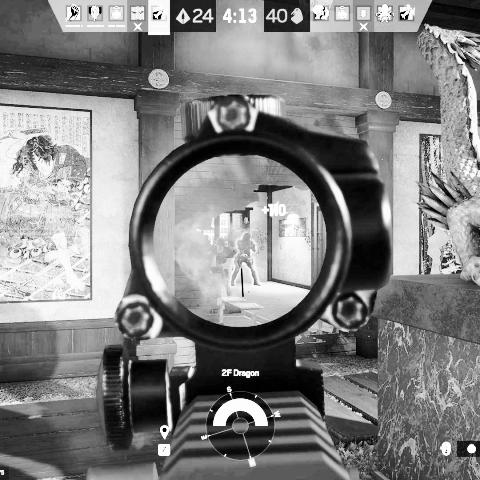Character: (230, 231, 262, 288), (210, 237, 233, 296)
Friend_label: (234, 217, 258, 231)
Head: (215, 236, 225, 248), (243, 232, 251, 241)
